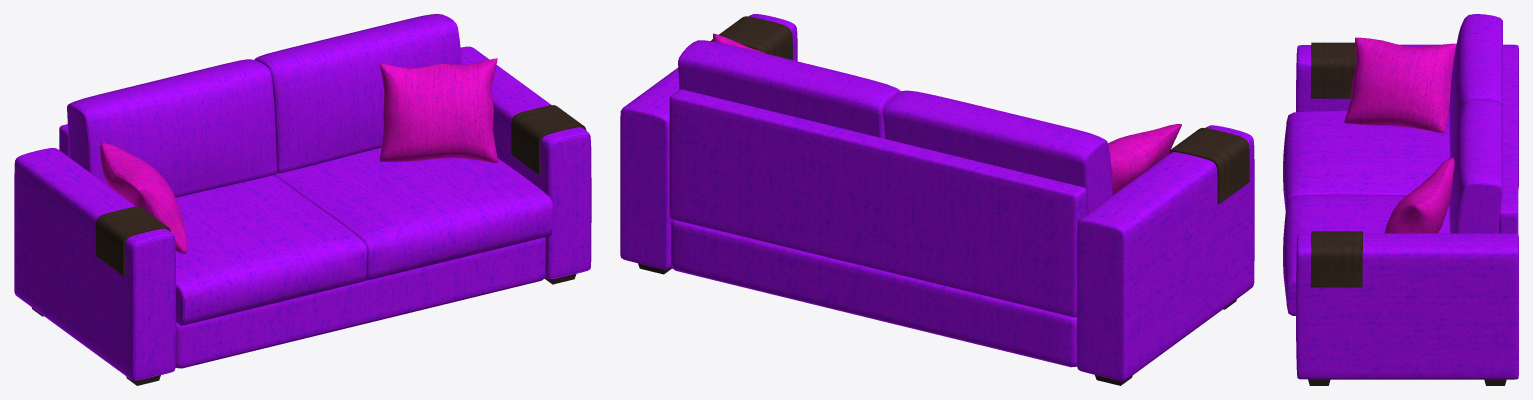
The picture shows the model from 3 angles, left to right: view 1: azimuth 30°, elevation 25°; view 2: azimuth 150°, elevation 25°; view 3: azimuth 270°, elevation 25°; orthographic projection. The views are drawn at different scales.
Parts seen in each view (by area): view 1: Pillow Big_Bottom, Pillow Big_Back, Sidewalls, Frame_bottom, pillow_01, Onlay_wood, pillow_02; view 2: Back cover, Sidewalls, Pillow Big_Back, Frame_bottom, Onlay_wood, pillow_02; view 3: Sidewalls, Pillow Big_Bottom, Pillow Big_Back, pillow_02, Onlay_wood, Back cover, pillow_01, Feet.
Part boxes in pixels (<box>): Pillow Big_Bottom: <box>175,147,552,325</box>; Pillow Big_Back: <box>67,14,461,197</box>; Sidewalls: <box>14,46,591,380</box>; Frame_bottom: <box>175,237,545,368</box>; pillow_01: <box>379,58,497,162</box>; Onlay_wood: <box>95,105,586,276</box>; pillow_02: <box>100,142,187,253</box>; Back cover: <box>669,89,1086,317</box>; Sidewalls: <box>620,14,1254,380</box>; Pillow Big_Back: <box>678,40,1112,213</box>; Frame_bottom: <box>671,219,1076,367</box>; Onlay_wood: <box>711,16,1249,204</box>; pillow_02: <box>1108,124,1181,194</box>; Sidewalls: <box>1296,44,1518,379</box>; Pillow Big_Bottom: <box>1283,111,1498,315</box>; Pillow Big_Back: <box>1449,14,1502,233</box>; pillow_02: <box>1344,37,1456,133</box>; Onlay_wood: <box>1310,42,1362,287</box>; Back cover: <box>1499,45,1518,233</box>; pillow_01: <box>1384,157,1454,233</box>; Feet: <box>1308,379,1506,385</box>.
Bounding box in the file's own units: 208 × 87.79 × 98.22.
Materials: 3 (3 with a texture image).
